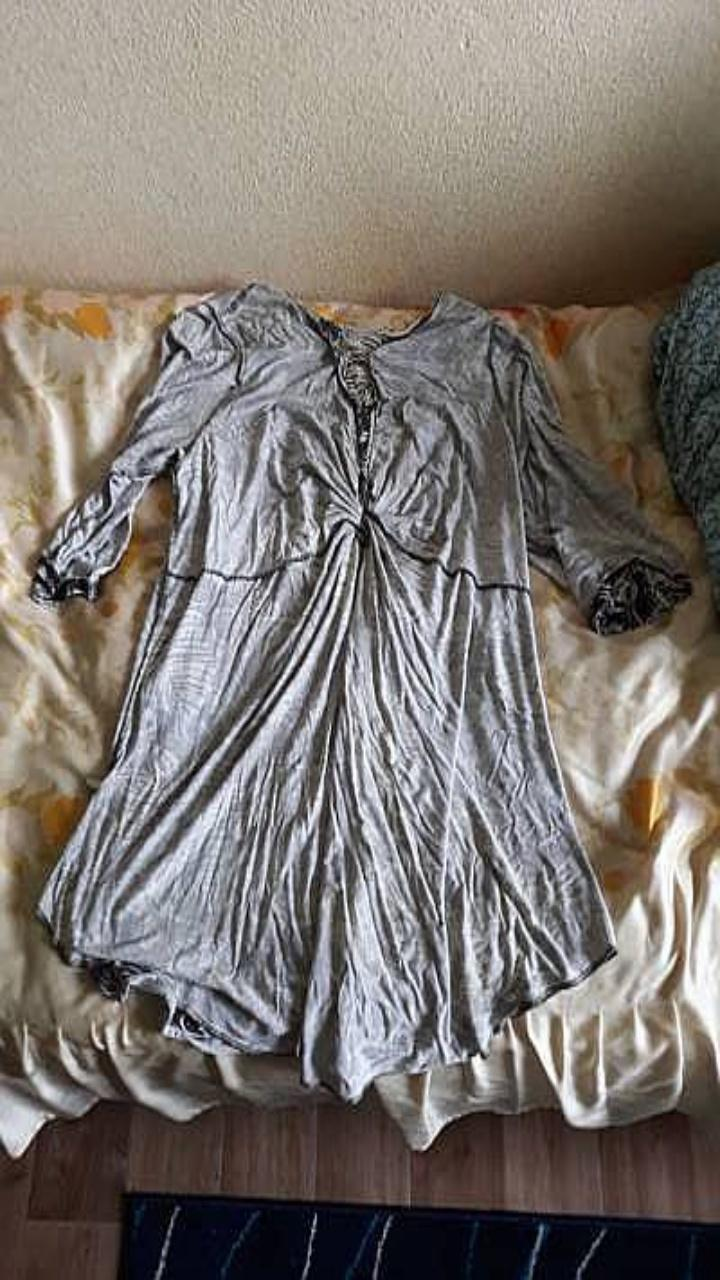T-Shirt: (30, 283, 690, 1100)
